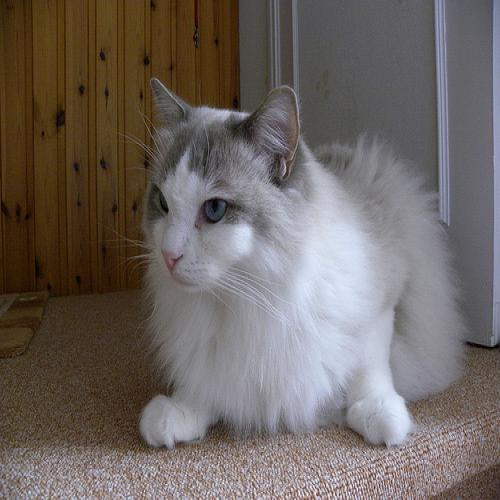ragdoll: (135, 68, 320, 299)
